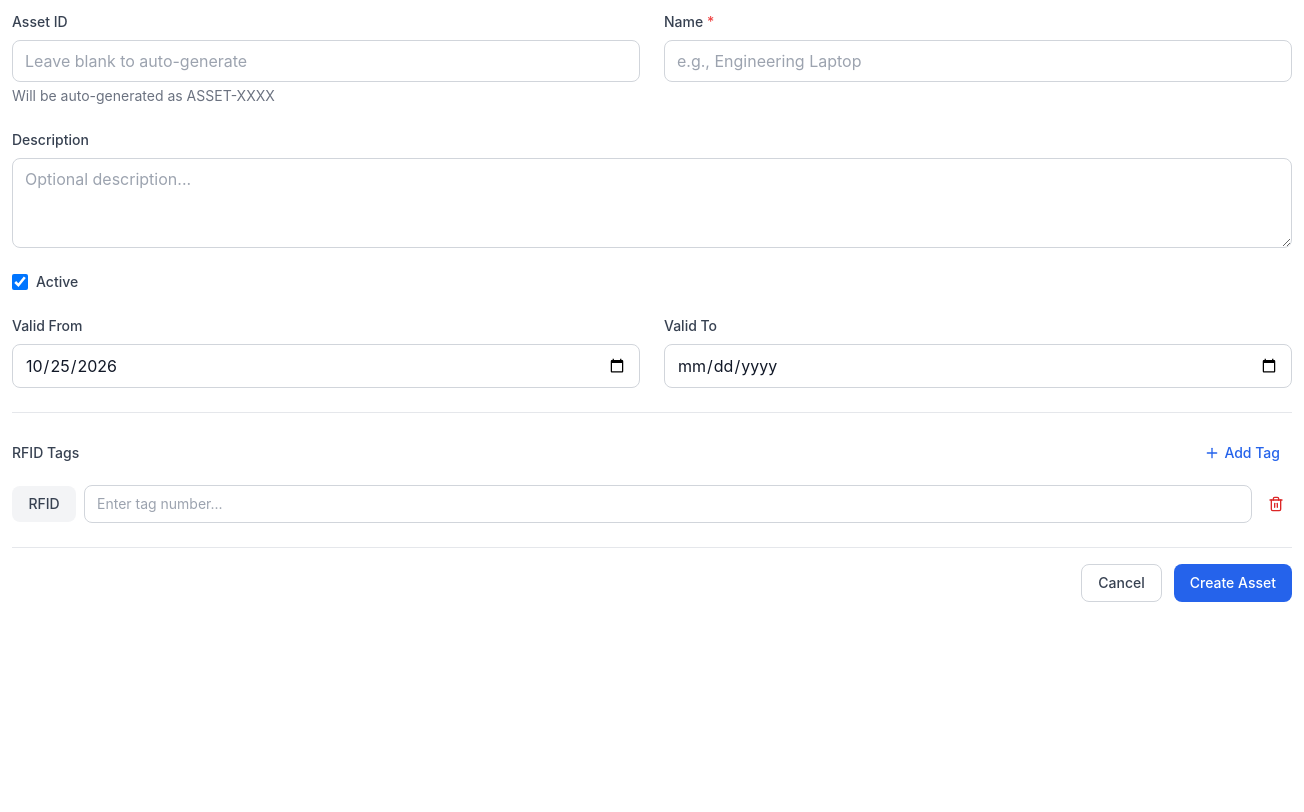
Test: AssetForm › validates required fields
The image size is (1304, 812).
Step 1. Click the button "Create Asset" → click(1233, 583), box [1174, 564, 1292, 602]
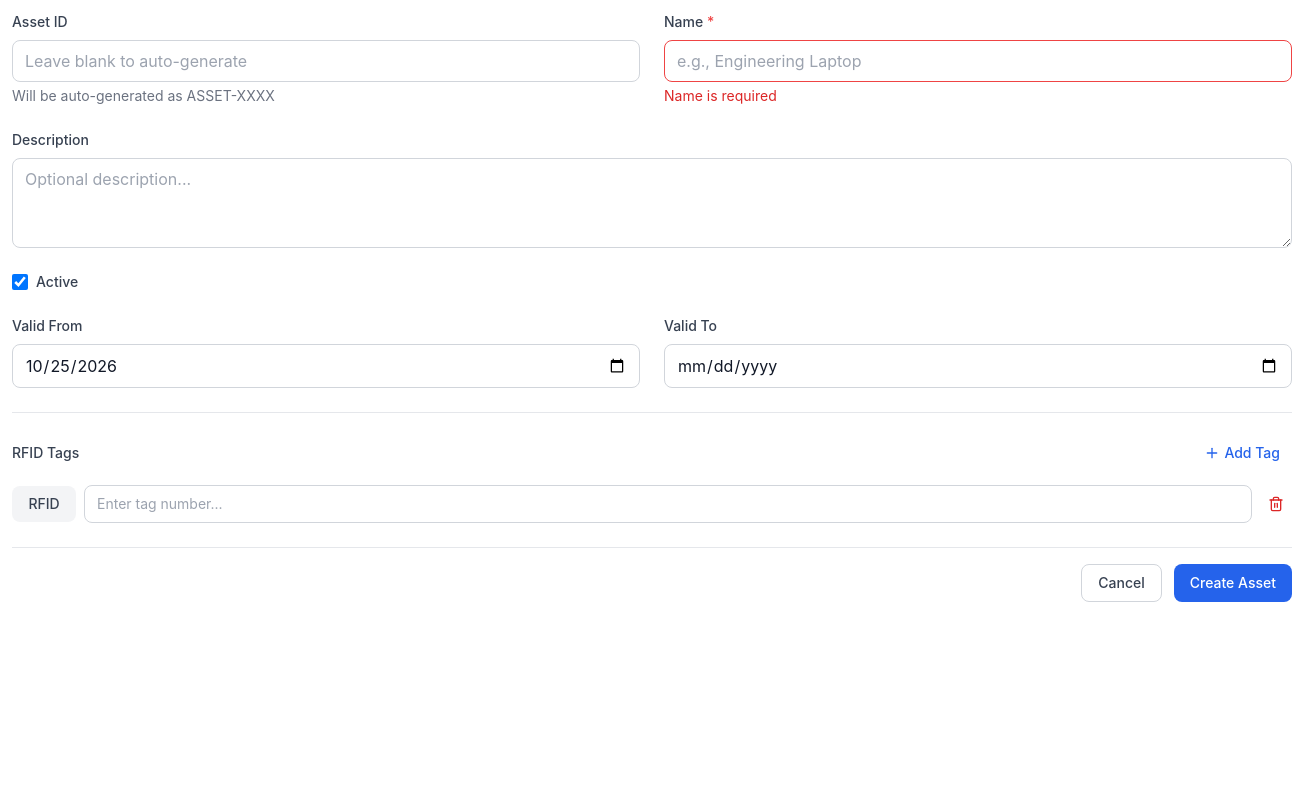
Result: the text "Name is required" is shown at [664, 87, 777, 104]
